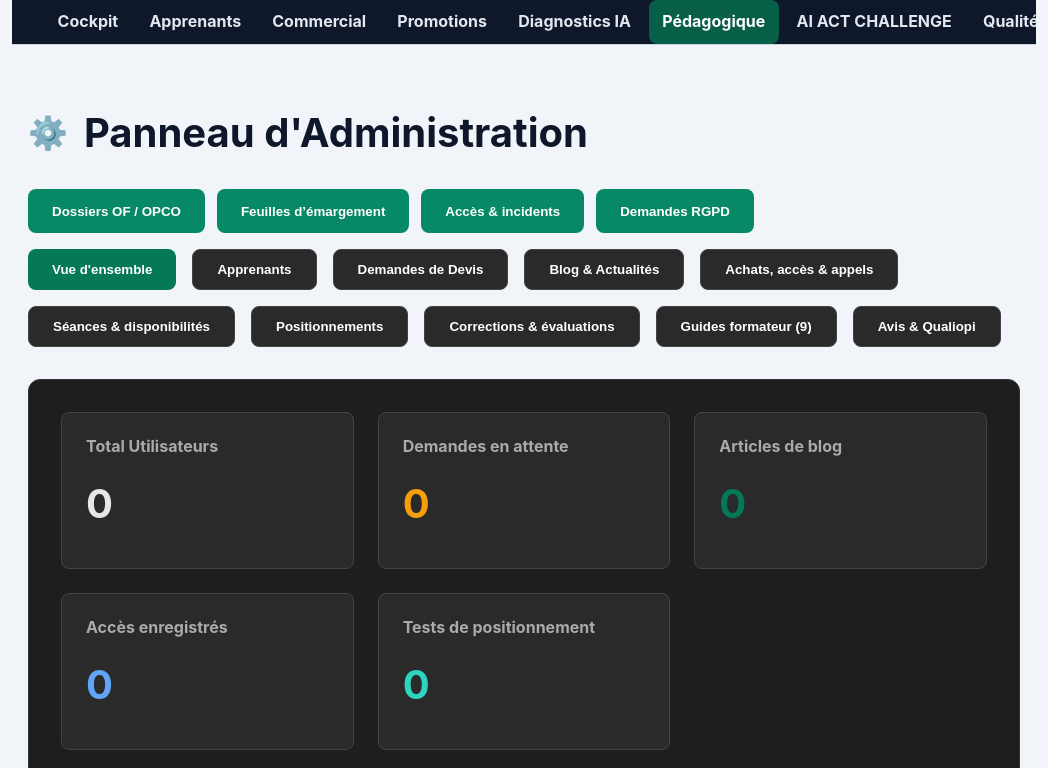
AdminDashboard › synchronise l’annuaire après une navigation same-route et un retour depuis Vue d’ensemble
Expected: the heading "Total Utilisateurs" is shown, [86,436,218,456]
Click the link "Apprenants" at (195, 21), box [149,11,241,31]
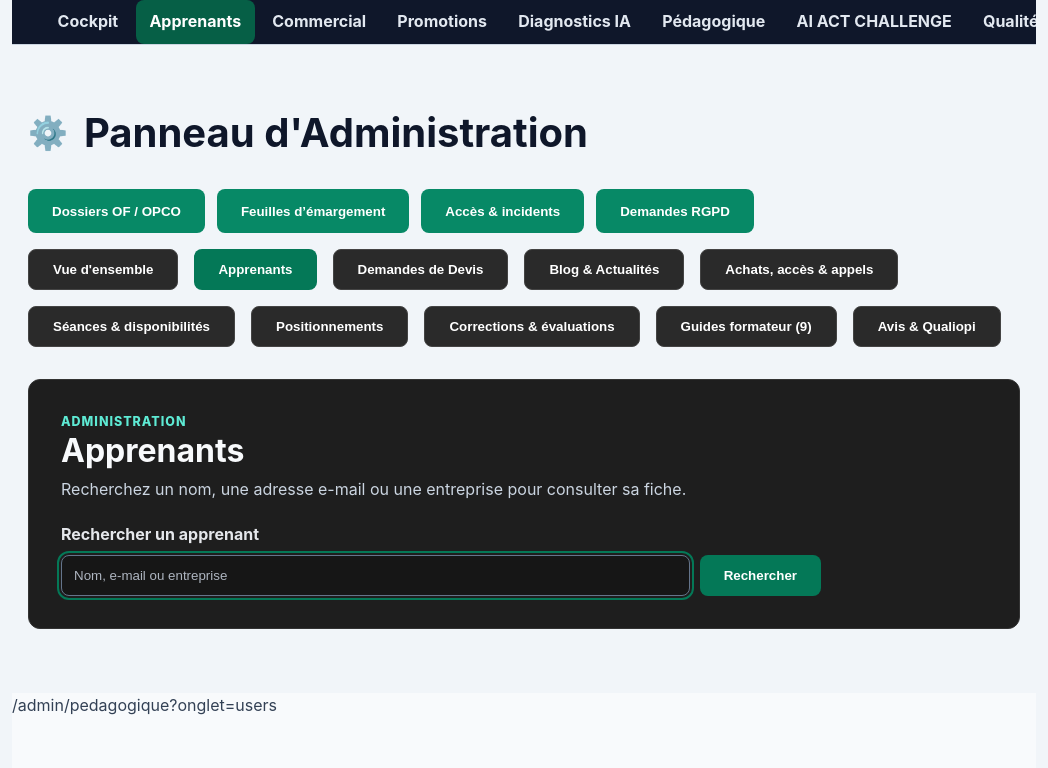
Expected: the heading "Apprenants" is shown, [61,431,244,470]
Expected: the text with test id "location" reads "/admin/pedagogique?onglet=users", [12,695,277,715]
Click the button "Vue d'ensemble" at (103, 270), box [28,249,178,290]
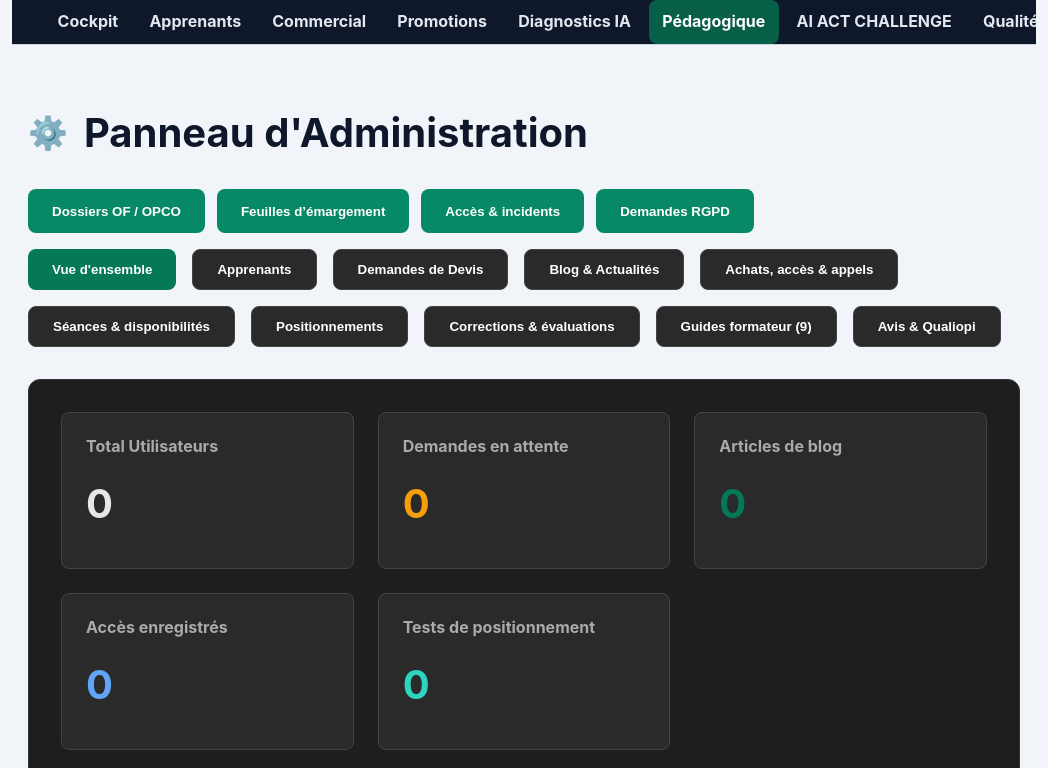
Expected: the heading "Total Utilisateurs" is shown, [86,436,218,456]
Click the link "Apprenants" at (195, 21), box [149,11,241,31]
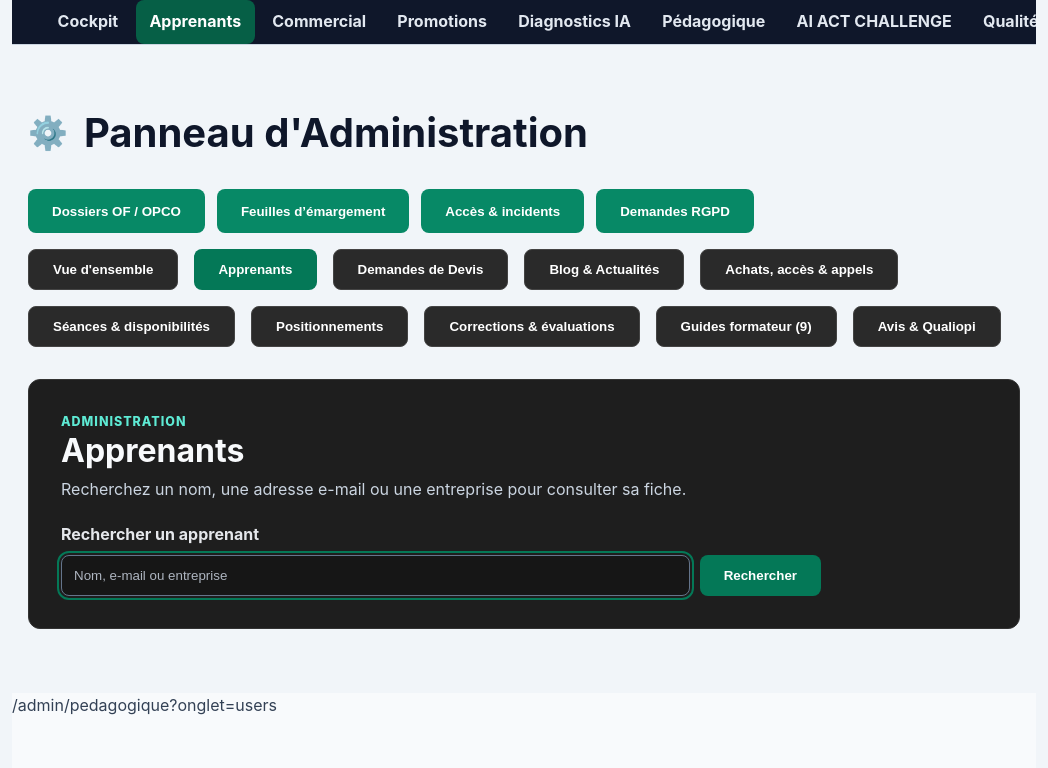
Expected: the heading "Apprenants" is shown, [61,431,244,470]
Click the link "Pédagogique" at (714, 21), box [662,11,765,31]
(page scrolled)
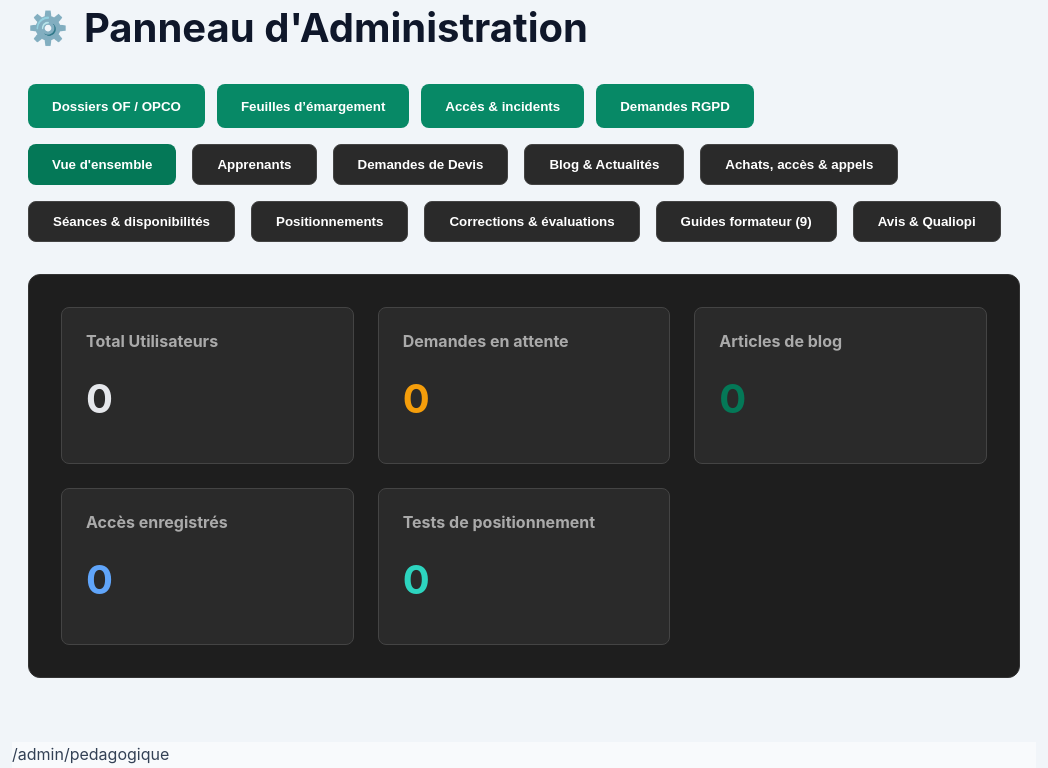
Expected: the heading "Total Utilisateurs" is shown, [86,331,218,351]
Expected: the text with test id "location" reads "/admin/pedagogique", [12,744,169,764]
